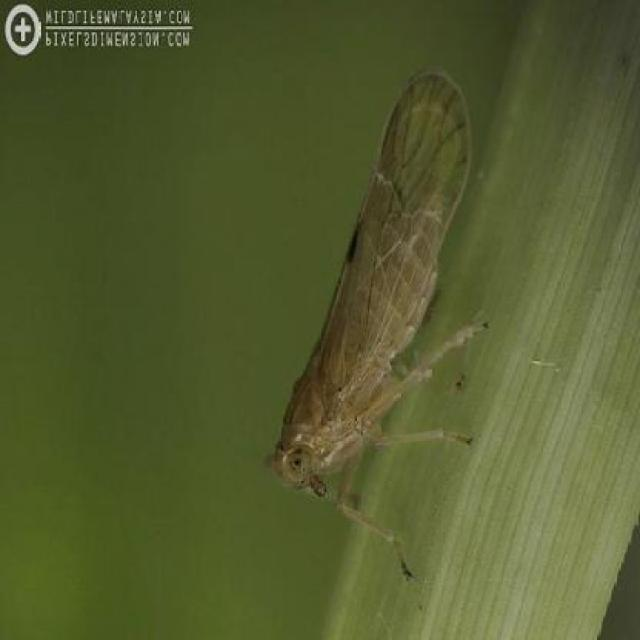brown-planthopper: (266, 62, 506, 586)
